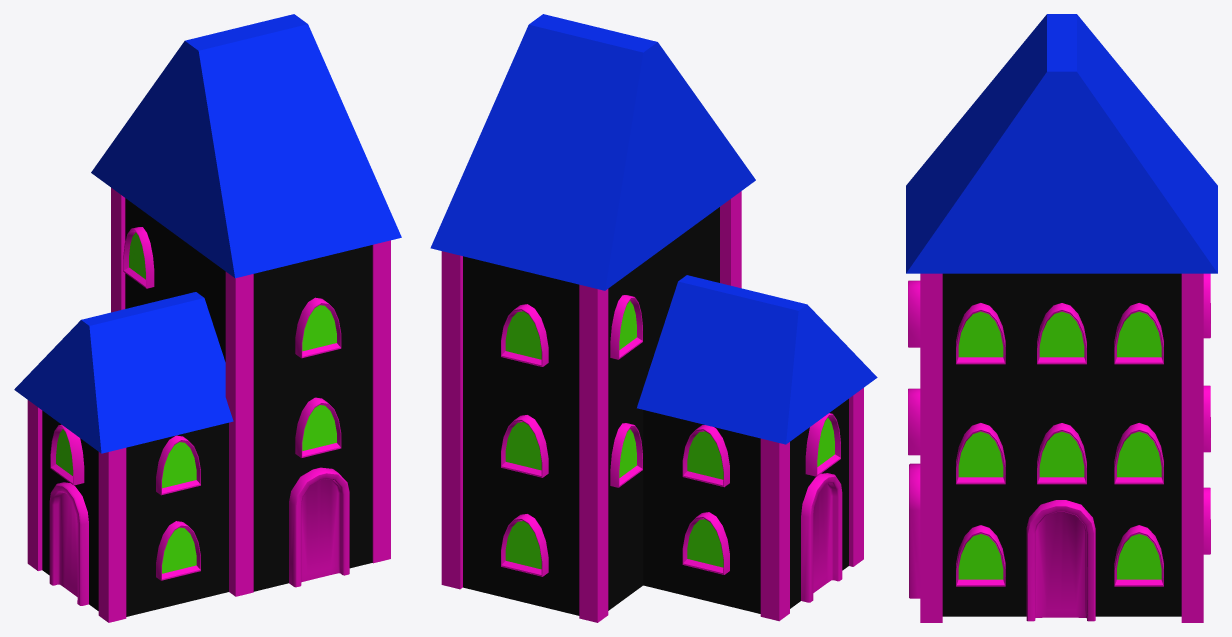
File: Maison_01.FBX
The picture shows the model from 3 angles, left to right: view 1: azimuth 30°, elevation 25°; view 2: azimuth 150°, elevation 25°; view 3: azimuth 270°, elevation 25°; orthographic projection. The views are drawn at different scales.
Parts seen in each view (by area): view 1: Maison_01; view 2: Maison_01; view 3: Maison_01.
Boxes of the visible parts, left/top/right/bottom form: Maison_01: left=14, top=14, right=401, bottom=622; Maison_01: left=430, top=14, right=877, bottom=622; Maison_01: left=906, top=14, right=1217, bottom=622.
Size of the model in its own units: 132 by 215 by 113.
